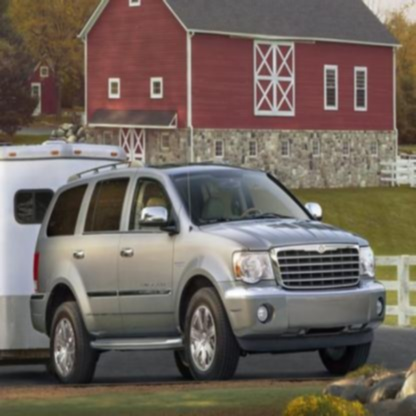Vehicle: (28, 157, 388, 386)
